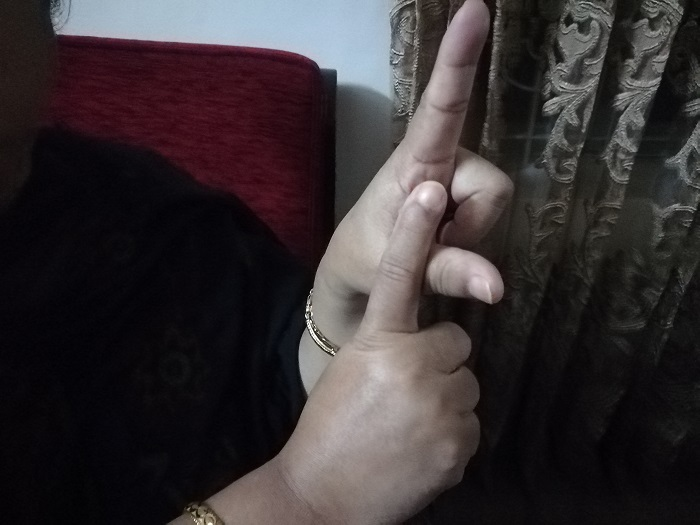dh: (340, 1, 499, 505)
